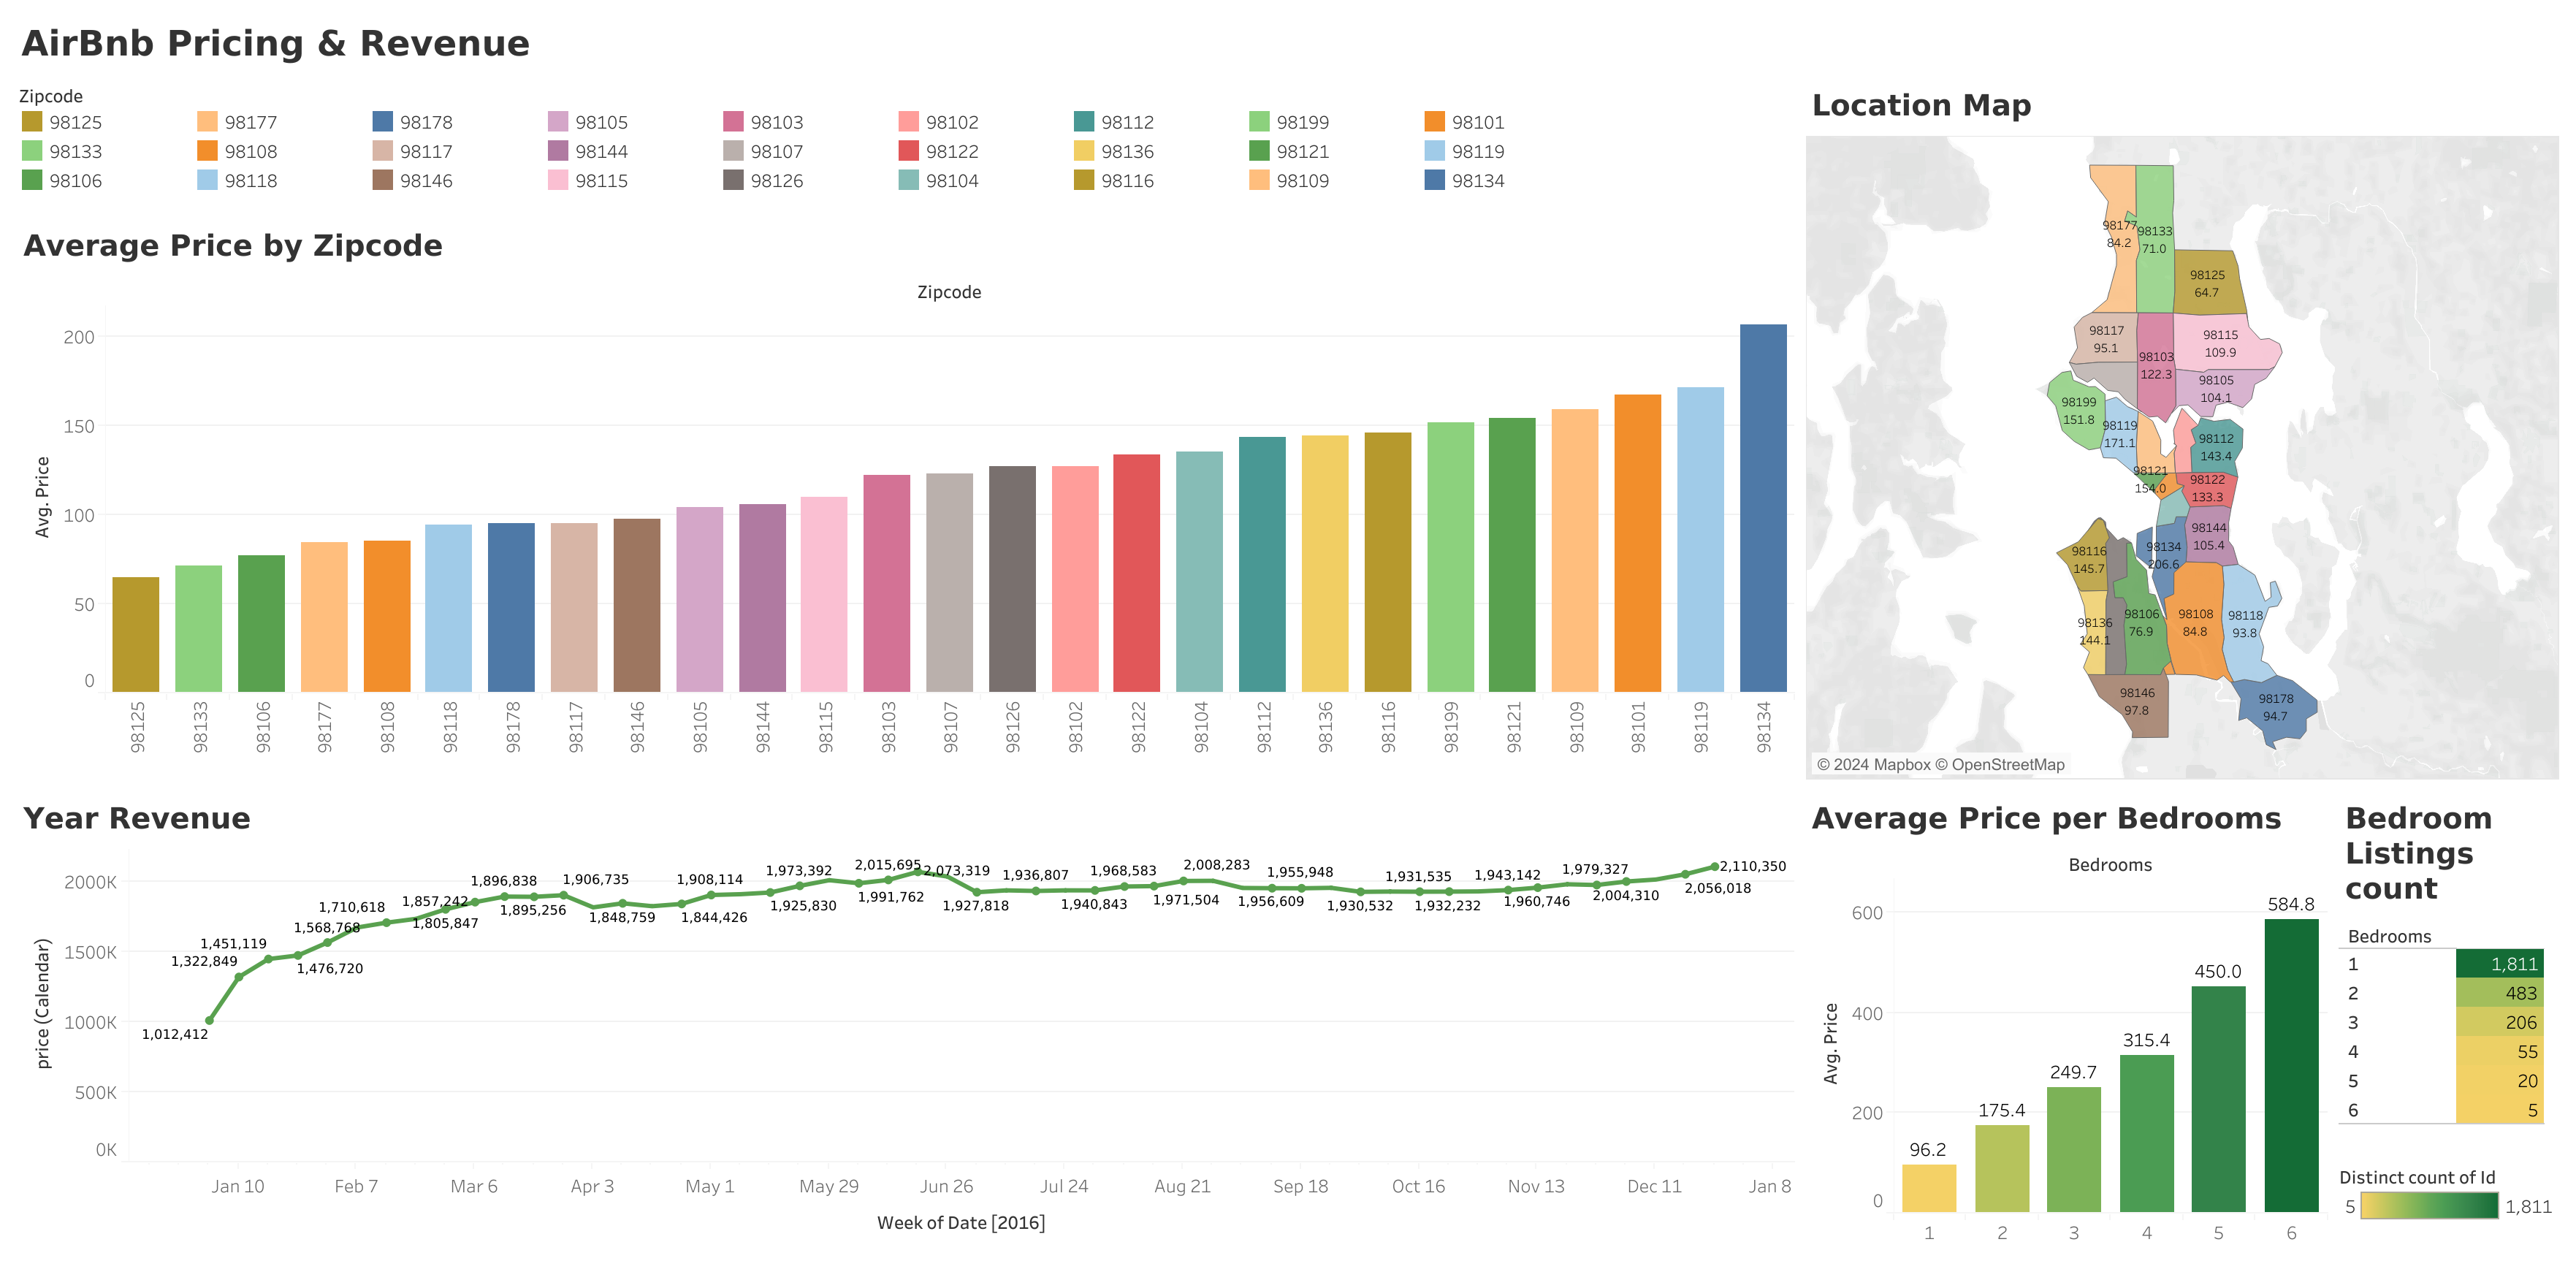

The dashboard page shown, as its layout file describes it:
{"tool":"tableau","page":{"name":"AirBnb Pricing & Revenue","canvas":[1000,1000],"units":"permille","ordinal":0},"visuals":[{"type":"title","box":[4.8,9.5,990.5,49.9]},{"type":"legend","title":"Sheet 1","param":"[federated.02bxsfs1ylpkh311ssrry0vnfq7u].[none:zipcode:ok]","box":[4.8,59.5,693.5,110.6]},{"type":"worksheet","title":"Sheet 2","mark":"Multipolygon","box":[698.2,59.5,297,564.2]},{"type":"worksheet","title":"Sheet 1","mark":"Automatic","rows":["price"],"cols":["zipcode"],"box":[4.8,170,693.5,453.7]},{"type":"worksheet","title":"Sheet 3","mark":"Automatic","rows":["price (Calendar)"],"cols":["date"],"box":[4.8,623.7,693.5,366.8]},{"type":"worksheet","title":"Sheet 5","mark":"Automatic","rows":["price"],"cols":["bedrooms"],"box":[698.2,623.7,207.1,366.8]},{"type":"worksheet","title":"Sheet 6","mark":"Square","rows":["bedrooms"],"box":[905.4,623.7,89.9,287.8]},{"type":"legend","title":"Sheet 6","param":"[federated.02bxsfs1ylpkh311ssrry0vnfq7u].[ctd:id:qk]","box":[905.4,911.5,89.9,79]}]}

Visuals, with their boxes on the dashboard's canvas, which has no fixed pixel size, in thousandths of its width and height (x1, y1, x2, y2). These are canvas units, not pixel positions in the 2576x1261 screenshot, which may show the page scaled, cropped or inside an application window:
title: x1=5, y1=10, x2=995, y2=59
"Sheet 1" legend: x1=5, y1=60, x2=698, y2=170
"Sheet 2" worksheet (Multipolygon marks): x1=698, y1=60, x2=995, y2=624
"Sheet 1" worksheet: x1=5, y1=170, x2=698, y2=624
"Sheet 3" worksheet: x1=5, y1=624, x2=698, y2=990
"Sheet 5" worksheet: x1=698, y1=624, x2=905, y2=990
"Sheet 6" worksheet (Square marks): x1=905, y1=624, x2=995, y2=912
"Sheet 6" legend: x1=905, y1=912, x2=995, y2=990
